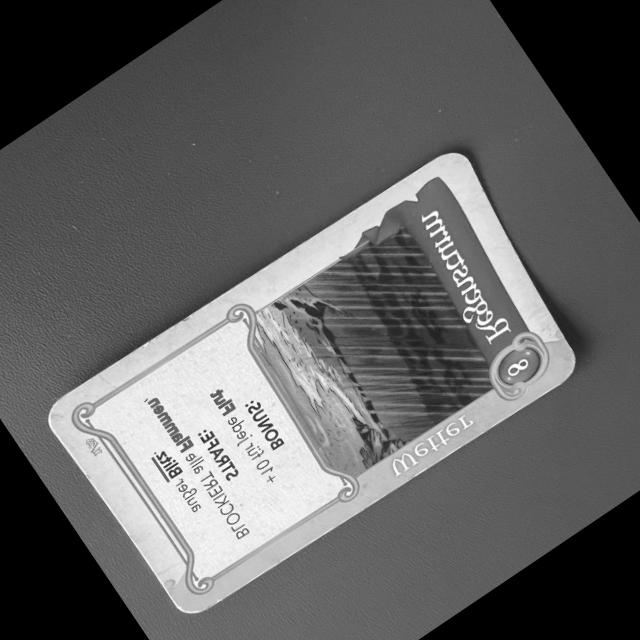Rainstorm: (41, 134, 586, 623)
